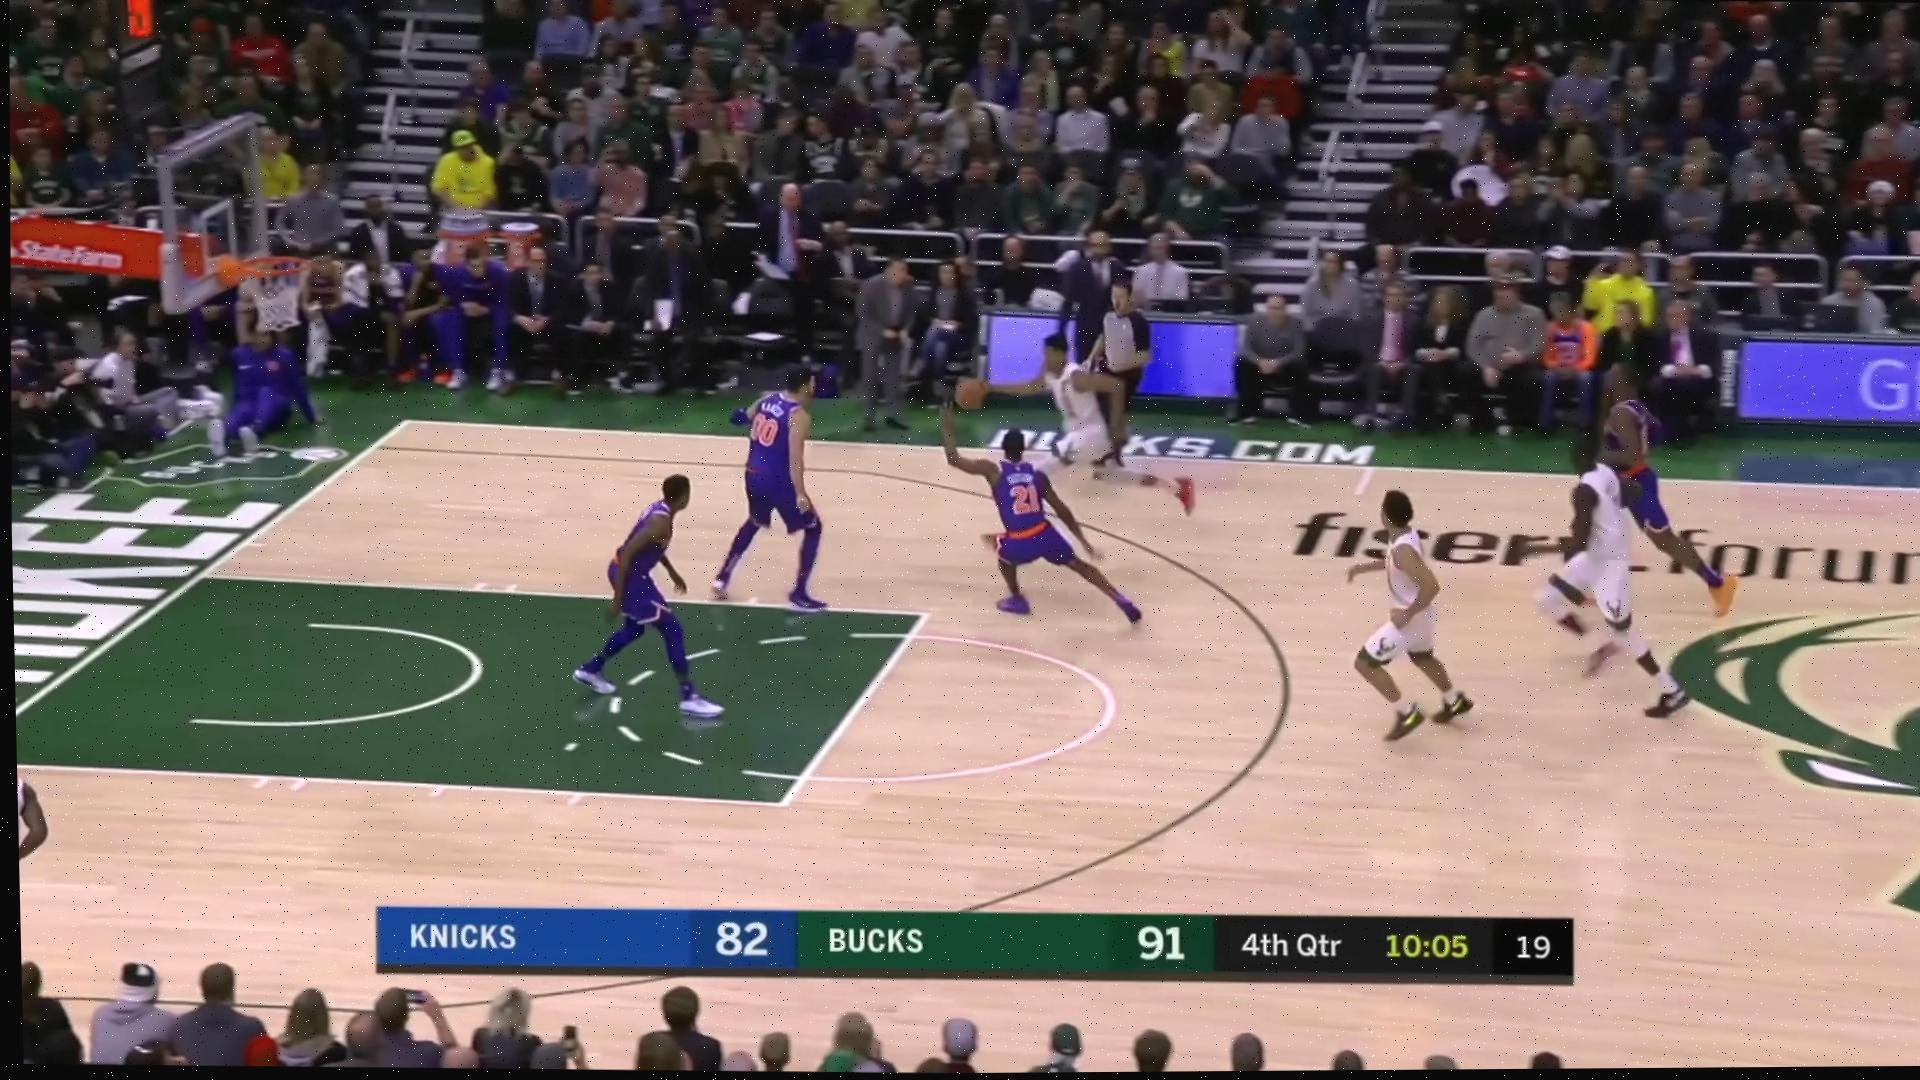no_foul: (916, 343, 1201, 604)
